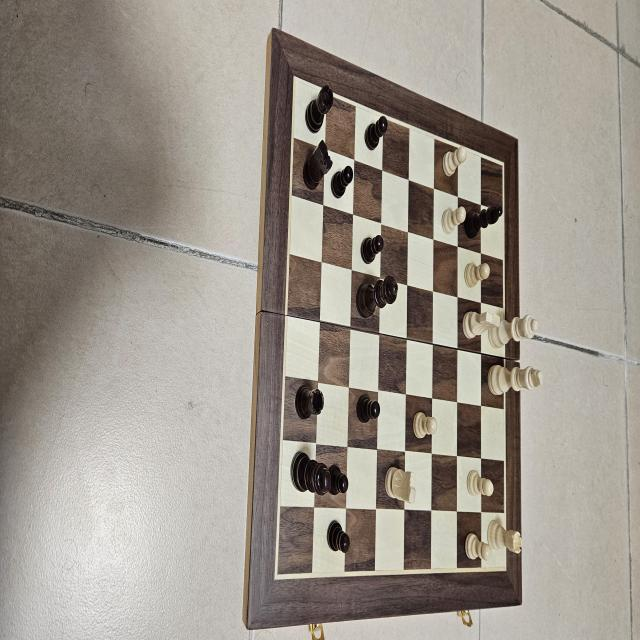chess-table-corners: (270, 566, 284, 584), (289, 74, 301, 86), (499, 158, 507, 170), (502, 561, 509, 573)
